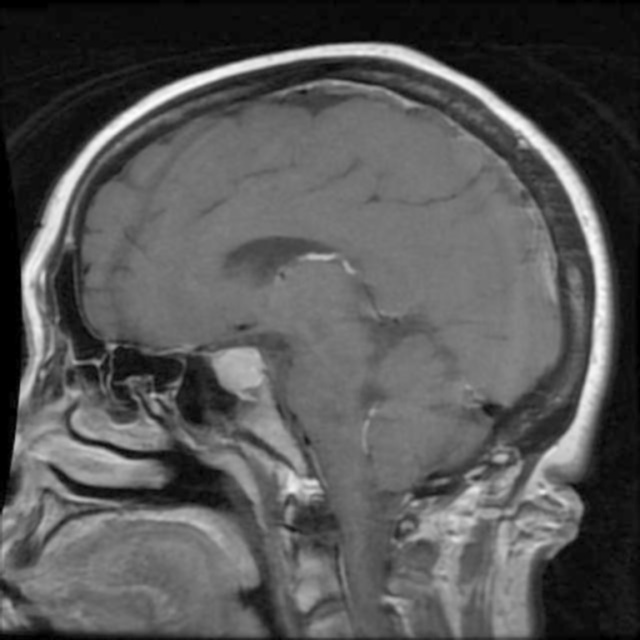no tumor: (215, 339, 281, 405)
